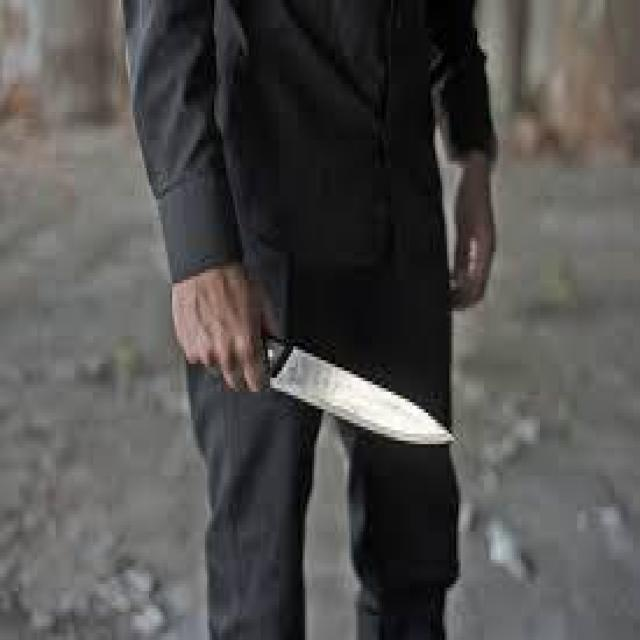faca: (149, 210, 456, 476)
